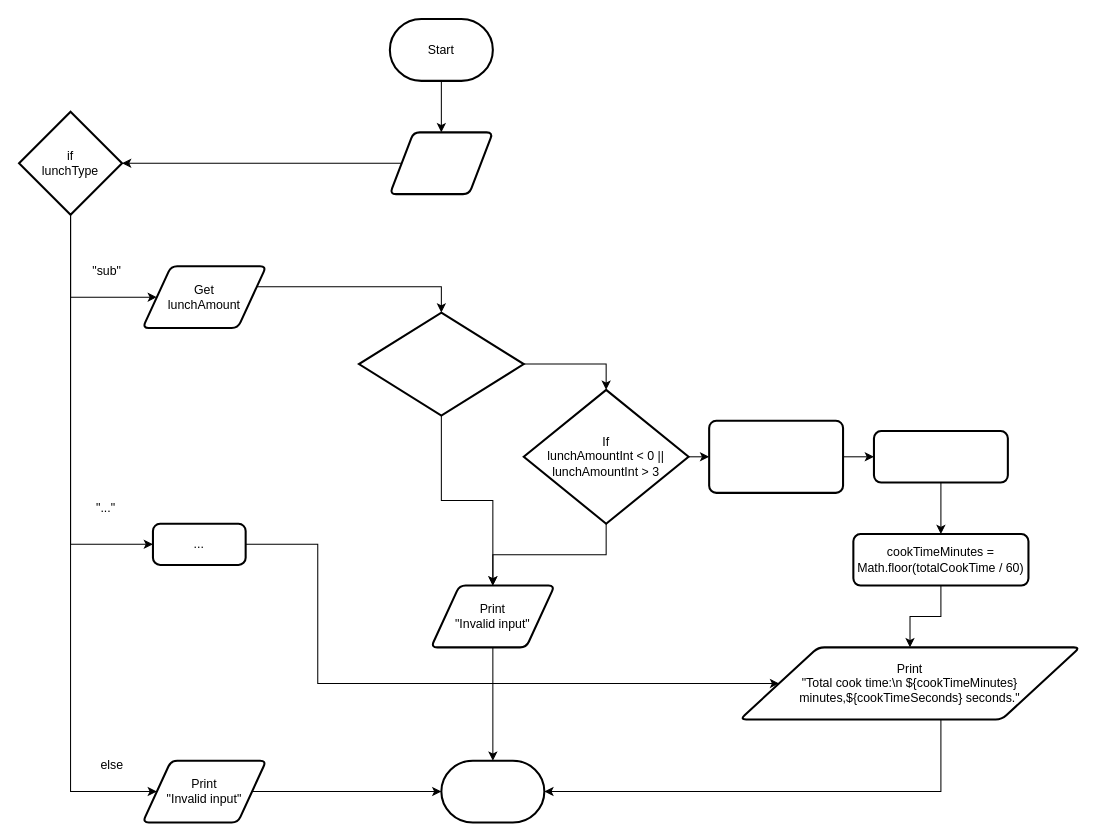
The diagram is 1098 pixels wide and 840 high, and some of its shapes have lost their labels. Here are the shapes that lost their labels. From the top down, the centre of each, then its label:
At (x=440, y=163): "Get lunchType".
At (x=440, y=363): "If isNaN(lunchAmountInt) == true".
At (x=776, y=456): "totalCookTime = (subCookTime / 2) + ((subCookTime / 2) * lunchAmountInt)".
At (x=940, y=456): "cookTimeSeconds = totalCookTime % 60".
At (x=492, y=791): "Stop".
